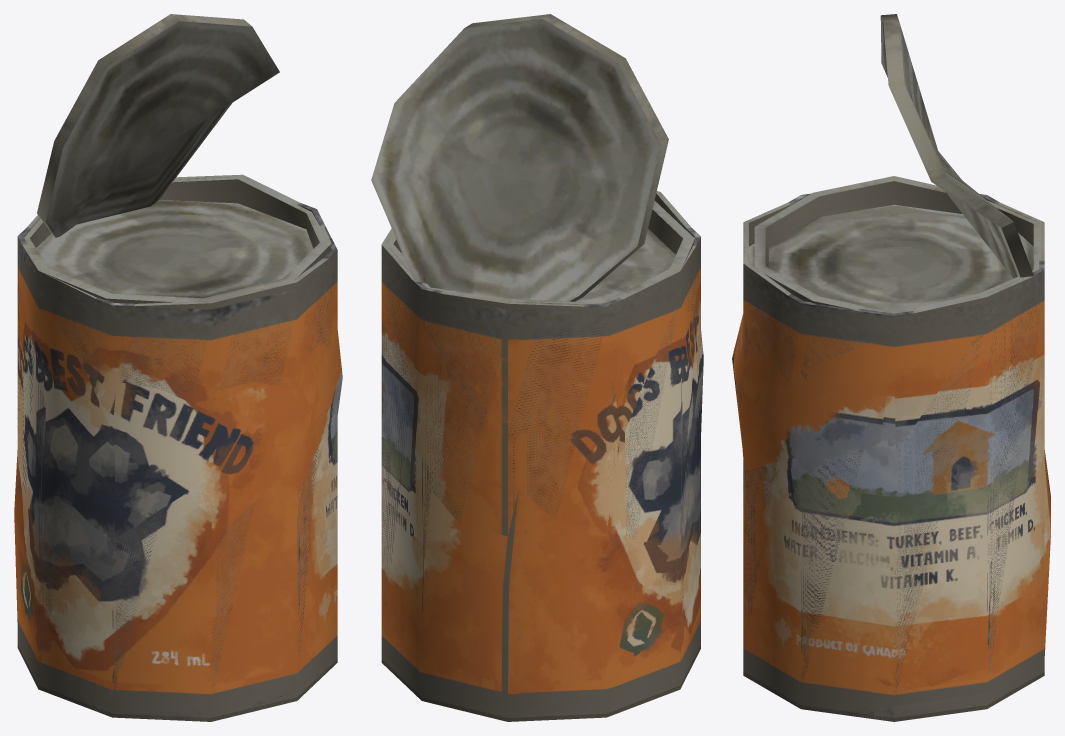
File: GEAR_DogFood.glb
3 renders of one model, left to right at view 1: azimuth 30°, elevation 25°; view 2: azimuth 150°, elevation 25°; view 3: azimuth 270°, elevation 25°, orthographic.
Parts seen in each view (by area): view 1: CannedFoodMesh (×2), CannedFoodMesh_Old; view 2: CannedFoodMesh (×2), CannedFoodMesh_Old; view 3: CannedFoodMesh (×2), CannedFoodMesh_Old.
Boxes of the visible parts, left/top/right/bottom form: CannedFoodMesh (×2): left=14, top=14, right=342, bottom=721; CannedFoodMesh_Old: left=17, top=203, right=337, bottom=721; CannedFoodMesh (×2): left=371, top=14, right=703, bottom=721; CannedFoodMesh_Old: left=381, top=225, right=700, bottom=684; CannedFoodMesh (×2): left=732, top=14, right=1050, bottom=721; CannedFoodMesh_Old: left=743, top=193, right=1044, bottom=720.
Bounding box in the file's own units: 0.1093 × 0.24 × 0.11.
4 materials, 4 textured.
